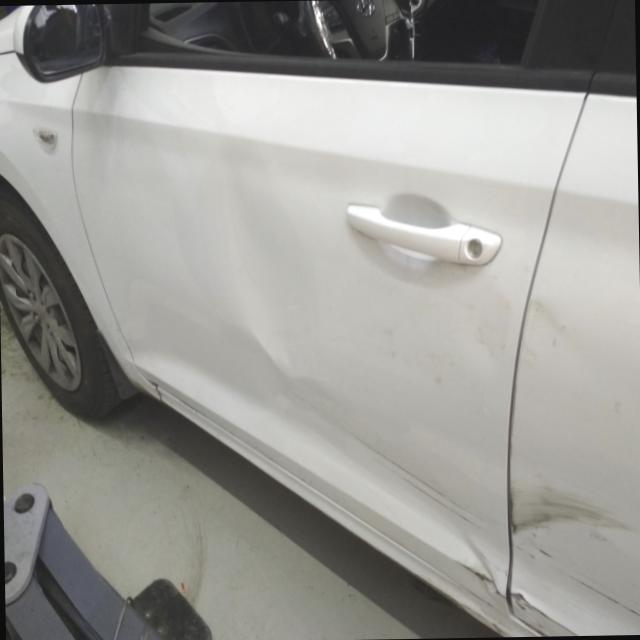Cabossage: (210, 225, 333, 401), (462, 521, 536, 628), (518, 295, 567, 353)
Rayure: (504, 487, 626, 533)
